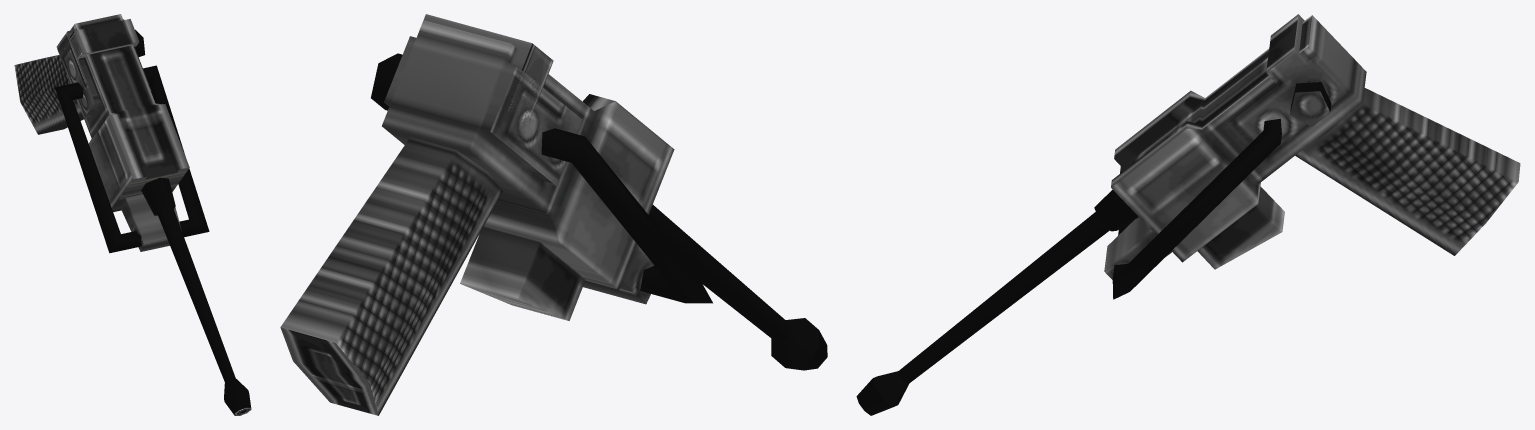
The model's file is p_9mmhandgun.glb.
The picture shows the model from 3 angles, left to right: view 1: azimuth 30°, elevation 25°; view 2: azimuth 150°, elevation 25°; view 3: azimuth 270°, elevation 25°; orthographic projection. The views are drawn at different scales.
Visible parts, largest first — view 1: p_9mmhandgun; view 2: p_9mmhandgun; view 3: p_9mmhandgun.
Boxes of the visible parts, x1,y1,x2,y2 form: p_9mmhandgun: (14, 14, 251, 415); p_9mmhandgun: (280, 14, 827, 415); p_9mmhandgun: (856, 14, 1520, 415).
Size of the model in its own units: 3.78 by 9.79 by 14.97.
2 materials, 2 textured.
